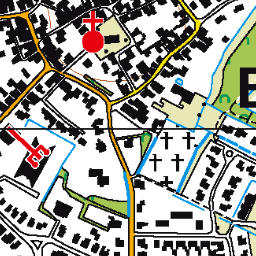church: (77, 9, 108, 55)
